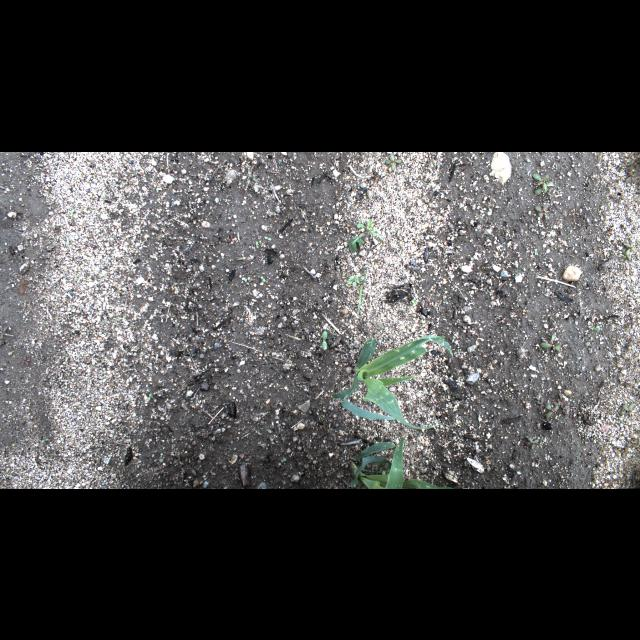crop: (330, 333, 456, 429), (348, 439, 450, 487)
weed: (536, 389, 568, 418), (347, 224, 375, 256), (527, 171, 555, 193), (358, 270, 370, 314), (539, 328, 561, 352), (535, 201, 557, 223), (618, 162, 638, 184), (618, 439, 638, 459), (64, 204, 84, 222), (620, 239, 636, 261), (386, 154, 404, 172), (618, 401, 638, 417), (258, 232, 282, 245), (320, 323, 330, 353), (248, 170, 264, 188), (0, 323, 14, 343), (257, 270, 273, 286), (238, 271, 254, 287), (526, 437, 544, 451), (254, 238, 268, 255), (34, 432, 52, 443), (347, 274, 357, 286), (592, 324, 602, 332)
